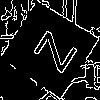Z: (24, 24, 78, 74)
